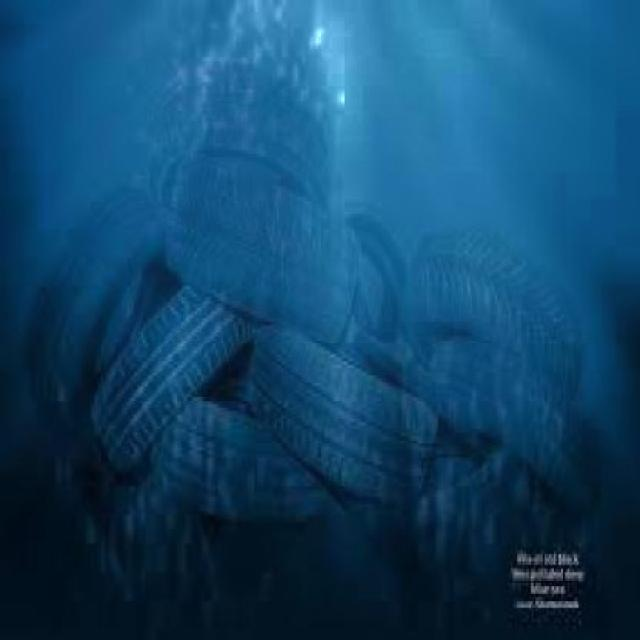tire: (248, 333, 463, 558), (182, 143, 382, 351), (75, 257, 256, 468), (408, 182, 590, 387), (150, 396, 298, 544)
